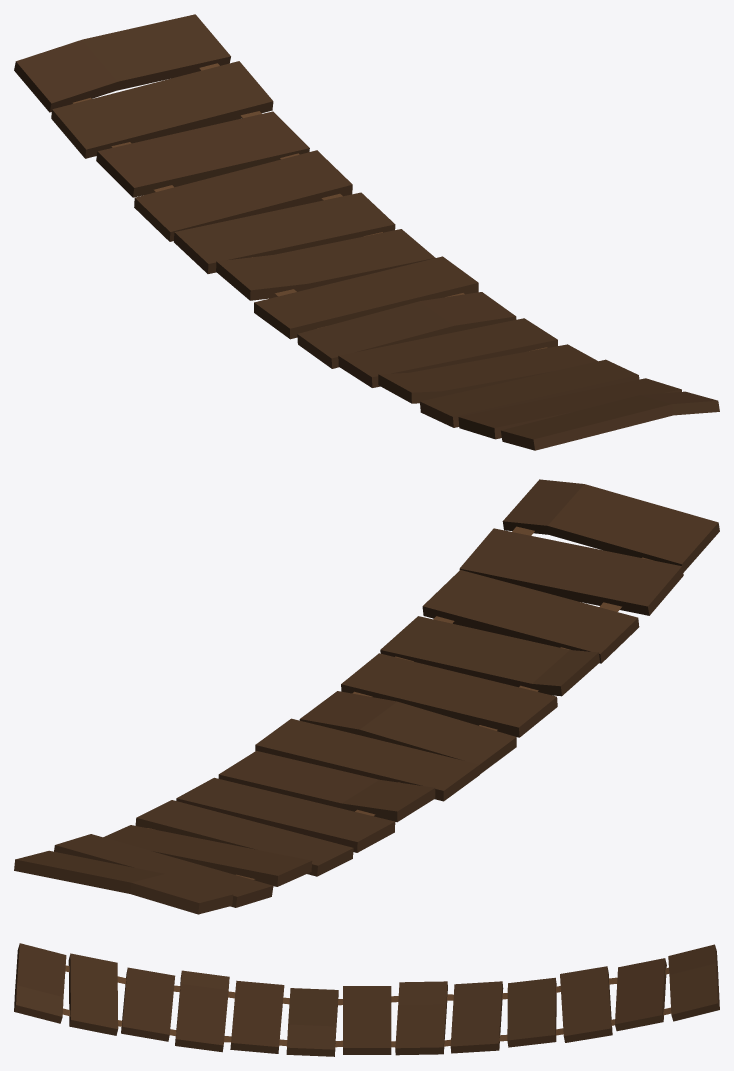
The model's file is Bridge_4_Dark_Brown.fbx.
3 views of the same model, one above another, from view 1: azimuth 30°, elevation 25°; view 2: azimuth 150°, elevation 25°; view 3: azimuth 270°, elevation 25° (orthographic). The views are drawn at different scales.
Parts seen in each view (by area): view 1: Bridge_4_Dark_Brown_Part_3, Bridge_4_Dark_Brown_Part_1, Bridge_4_Dark_Brown_Part_2; view 2: Bridge_4_Dark_Brown_Part_1, Bridge_4_Dark_Brown_Part_3, Bridge_4_Dark_Brown_Part_2; view 3: Bridge_4_Dark_Brown_Part_1, Bridge_4_Dark_Brown_Part_3, Bridge_4_Dark_Brown_Part_2, Bridge_4_Dark_Brown_Part_4.
Boxes of the visible parts, <box> form: Bridge_4_Dark_Brown_Part_3: <box>14,14,395,273</box>; Bridge_4_Dark_Brown_Part_1: <box>338,318,719,450</box>; Bridge_4_Dark_Brown_Part_2: <box>216,229,516,368</box>; Bridge_4_Dark_Brown_Part_1: <box>341,479,719,737</box>; Bridge_4_Dark_Brown_Part_3: <box>14,777,395,914</box>; Bridge_4_Dark_Brown_Part_2: <box>218,691,516,822</box>; Bridge_4_Dark_Brown_Part_1: <box>14,943,284,1053</box>; Bridge_4_Dark_Brown_Part_3: <box>450,944,719,1053</box>; Bridge_4_Dark_Brown_Part_2: <box>286,981,447,1056</box>; Bridge_4_Dark_Brown_Part_4: <box>62,965,671,1047</box>.
Size of the model in its own units: 188 by 79.21 by 906.
